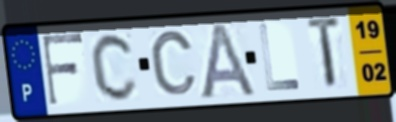A: (197, 19, 259, 101)
C: (89, 30, 141, 104), (148, 28, 200, 98)
F: (40, 31, 85, 108)
L: (256, 21, 303, 94)
T: (306, 13, 344, 92)
